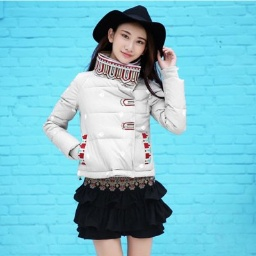face: (90, 21, 164, 79)
